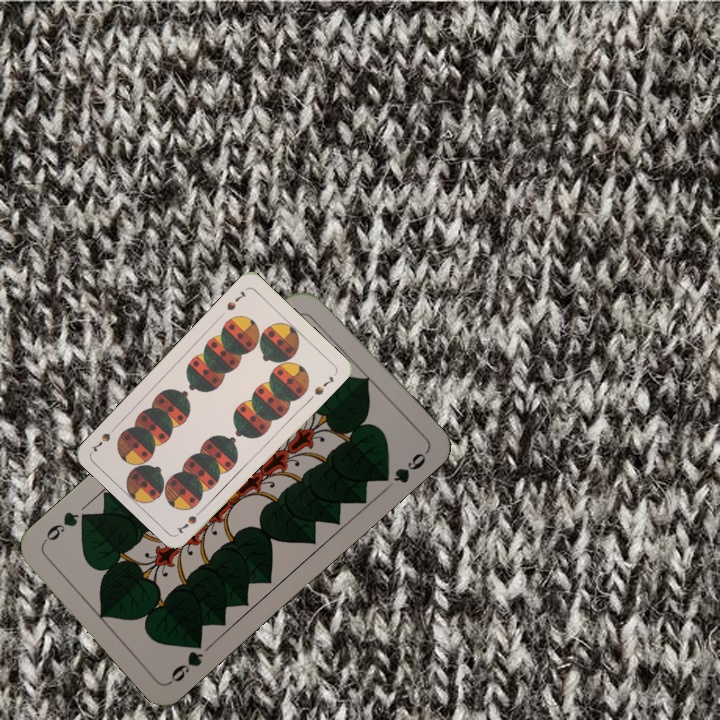G9: (166, 634, 206, 686)
S7: (173, 504, 207, 536), (222, 287, 248, 313)
